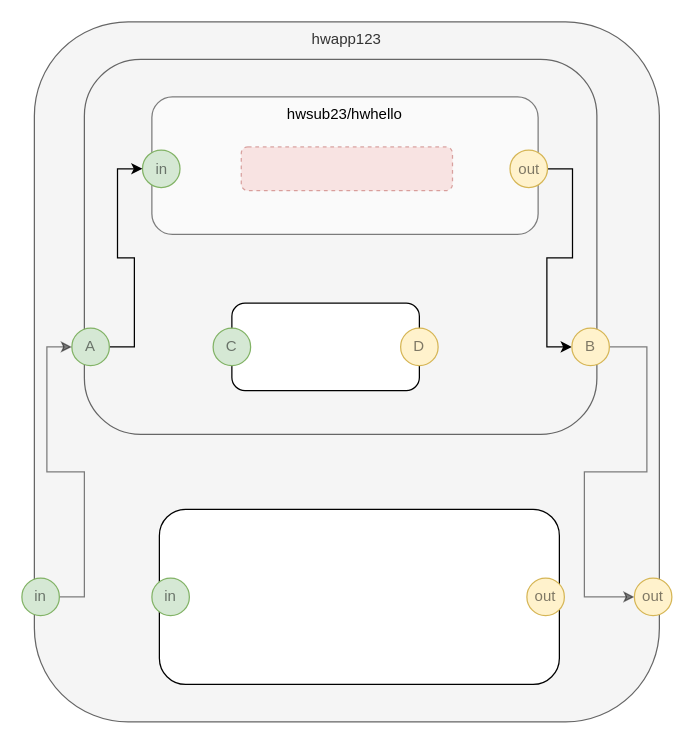
This 694x744 diagram has some shape labels left out. Each missing label, with the box of its shape:
hello: (240, 146, 452, 191)
hwapp123/hwsub23: (83, 58, 597, 434)
hwapp123/inner: (158, 508, 559, 684)
hwsub23/hole: (231, 302, 419, 391)
